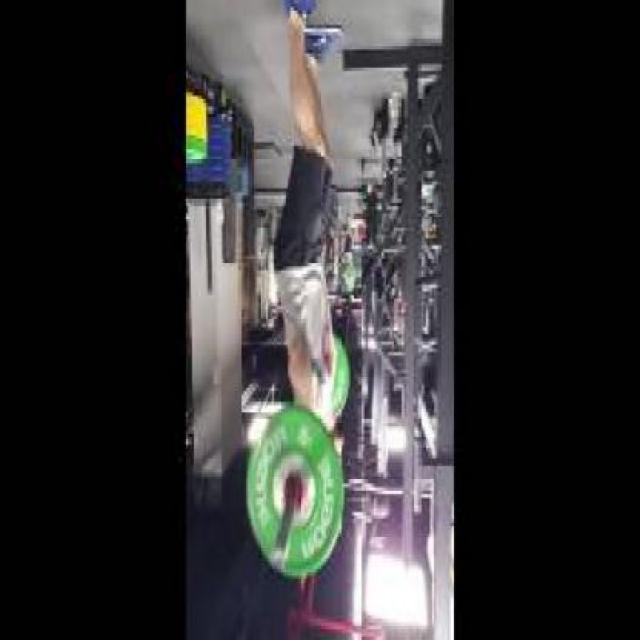Barbell: (270, 540, 290, 574)
